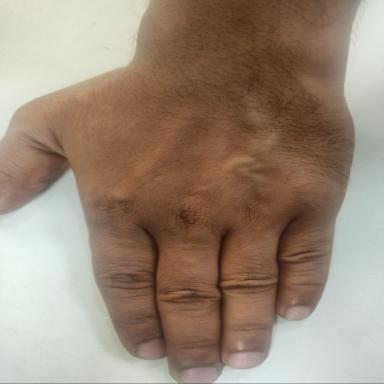normal skin: (1, 0, 360, 383)
